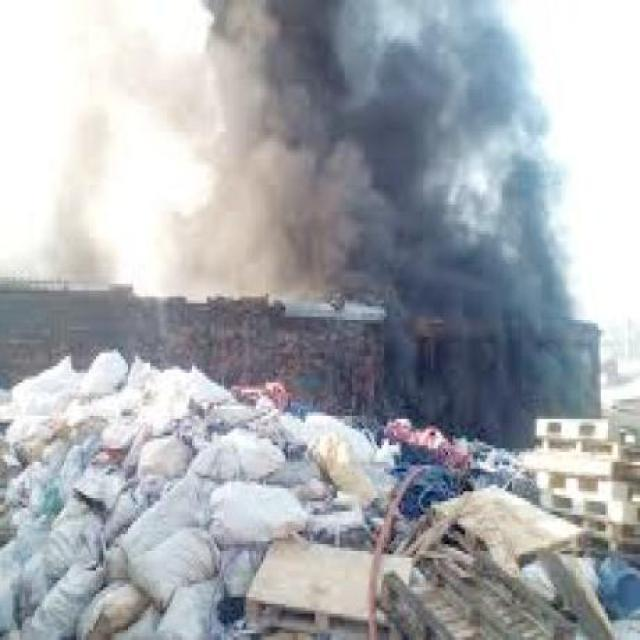Smoke: (176, 7, 584, 304), (378, 302, 588, 426), (11, 78, 144, 261)
